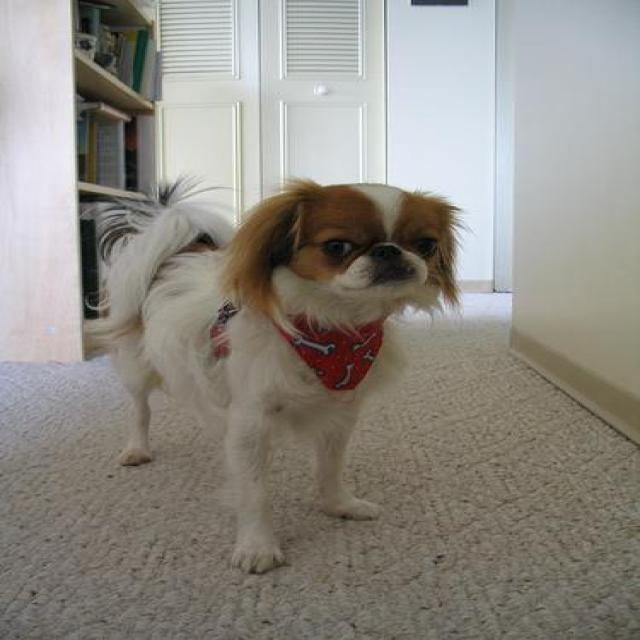husky: (85, 170, 478, 572)
